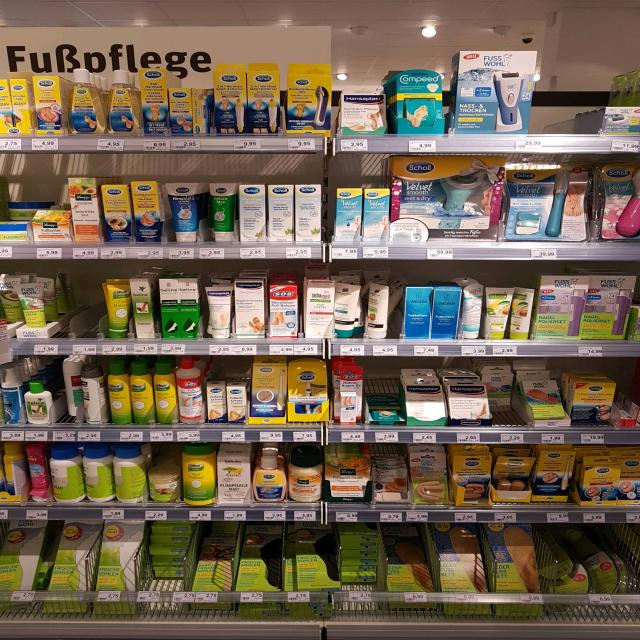unorganised: (47, 445, 143, 504), (149, 522, 187, 589), (365, 279, 395, 343), (78, 362, 106, 428), (103, 277, 130, 338), (461, 280, 486, 345), (336, 280, 360, 341), (61, 359, 79, 418), (484, 370, 513, 405)
